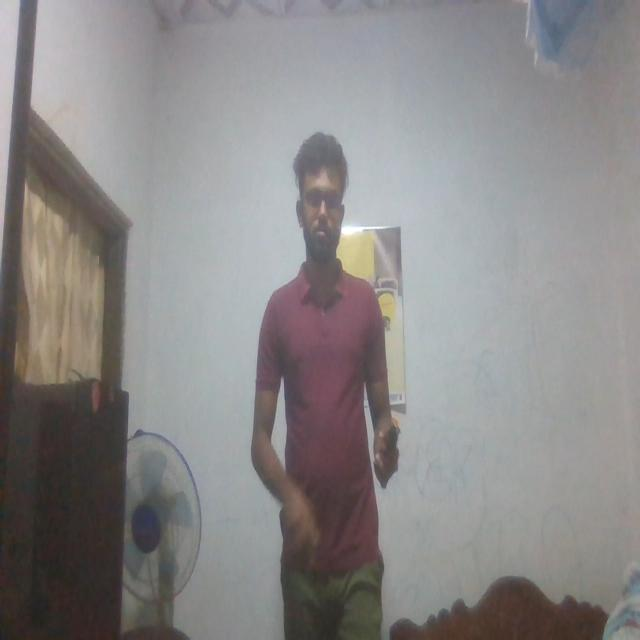Gun_Holder: (374, 409, 406, 485)
Person: (249, 129, 402, 640)
